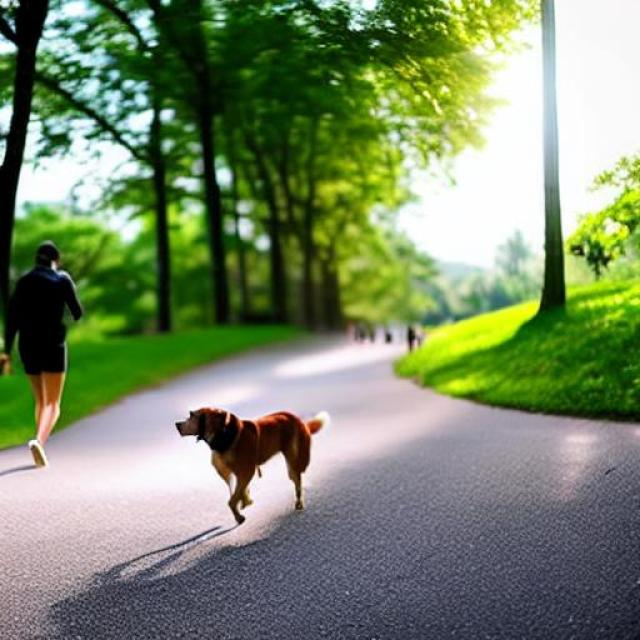Unleashed_Dog: (19, 332, 329, 526)
